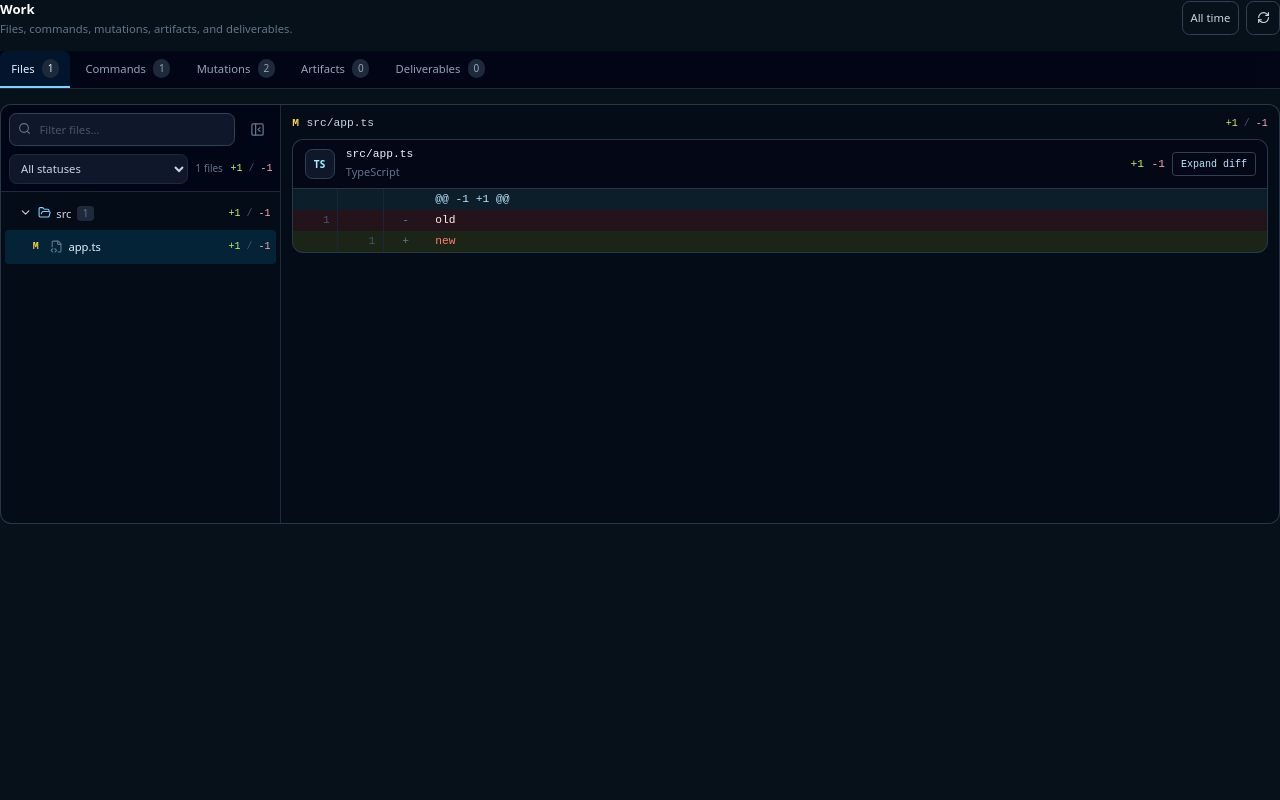
Test: WorkView › preserves an invalidation received while explicit recovery is pending
Expected: the element with test id "work-file-explorer" is shown, [0, 104, 1279, 524]
Click the button named "Refresh work". click: coordinates (1263, 18)
box: [1246, 1, 1279, 35]
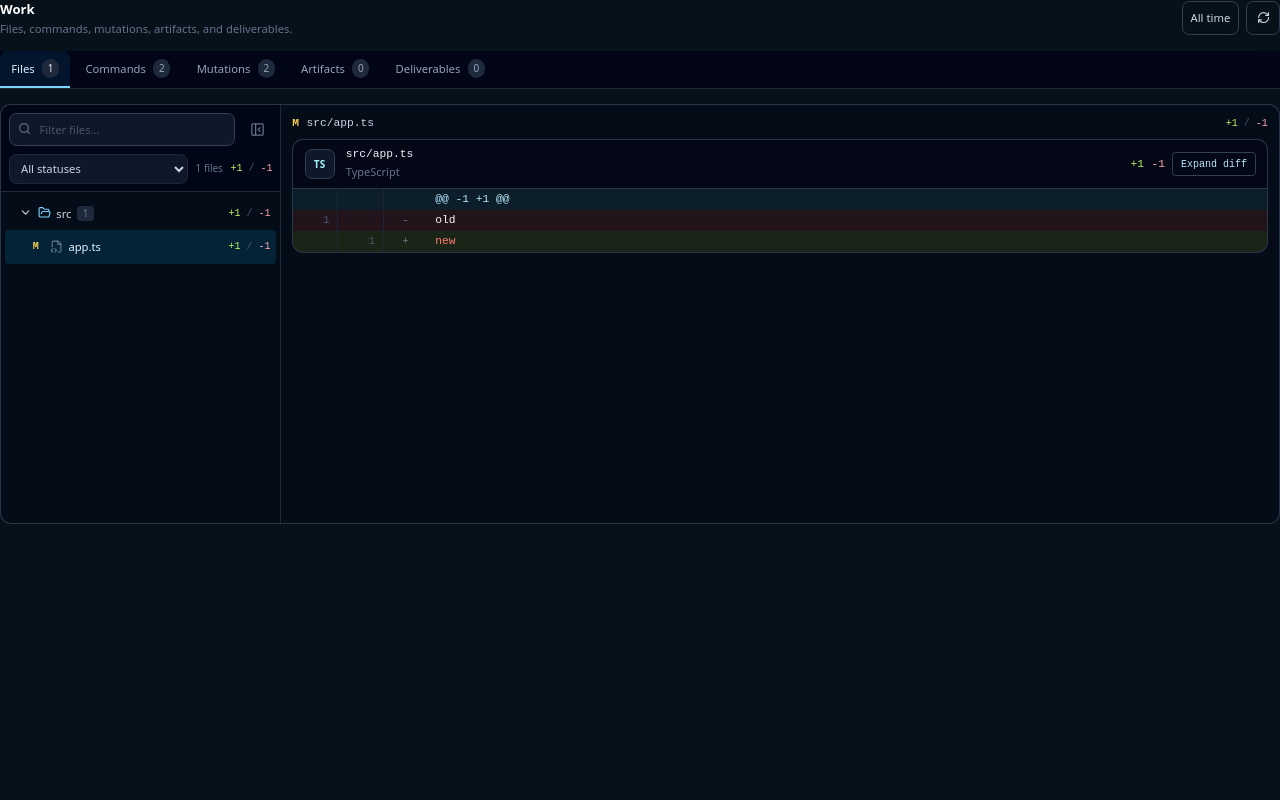
Expected: the tab "Commands 2" is shown, [74, 51, 182, 88]
